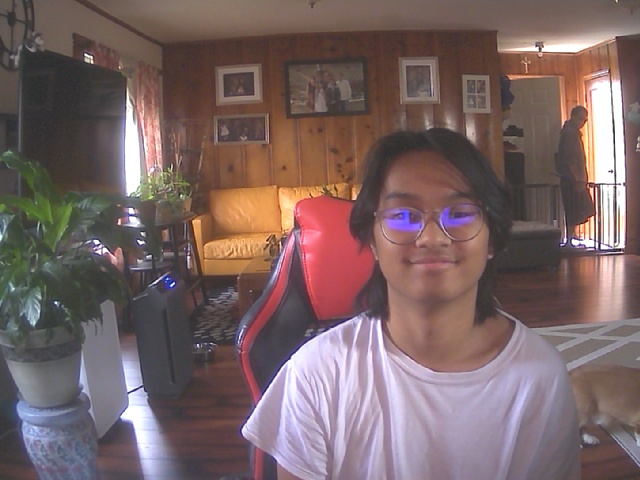happy: (366, 134, 497, 303)
